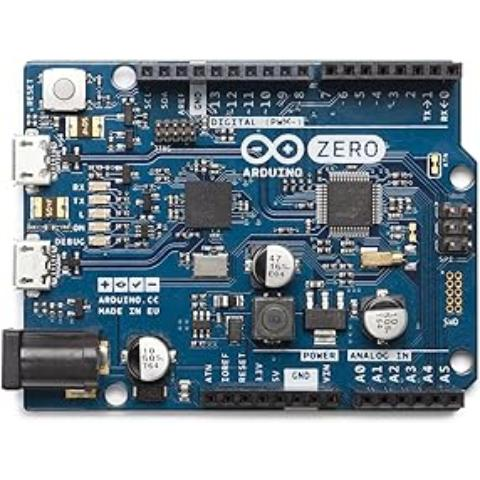Arduino-Zero: (0, 61, 480, 422)
